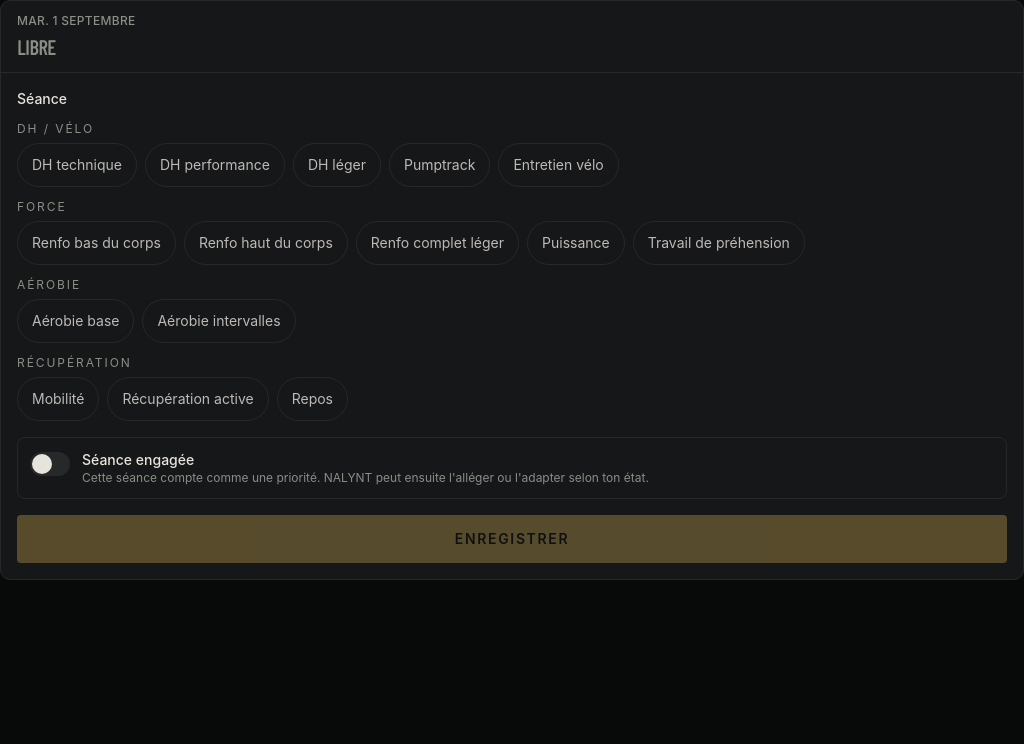
PlanningDayCard — planned duration (V0.3_006C2 / UX-10B-2B stepper) › duration copy: only lift-served DH kinds (DH_PERFORMANCE/DH_TECHNICAL/DH_LIGHT) claim remontées/pauses — PUMPTRACK keeps the generic copy
The image size is (1024, 744).
Click the button "DH performance" at (215, 165), box left=145, top=143, right=285, bottom=187
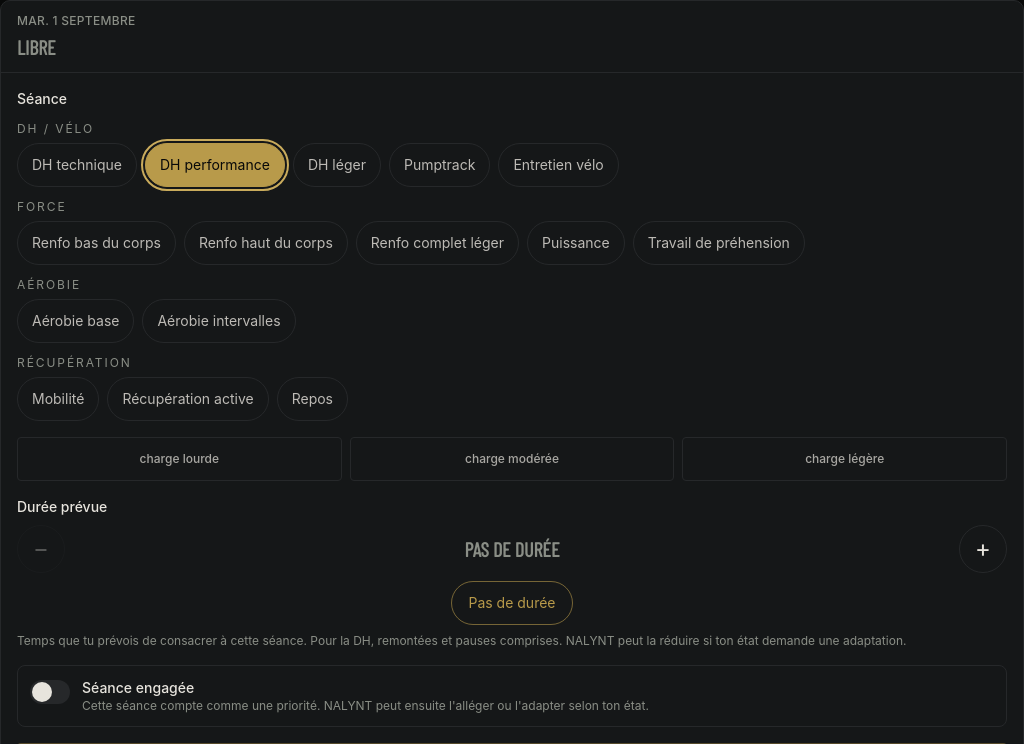
Expected: the text "Pour la DH, remontées et pauses comprises" is shown, left=17, top=633, right=906, bottom=648
Click the button "DH technique" at (77, 165), box left=17, top=143, right=137, bottom=187
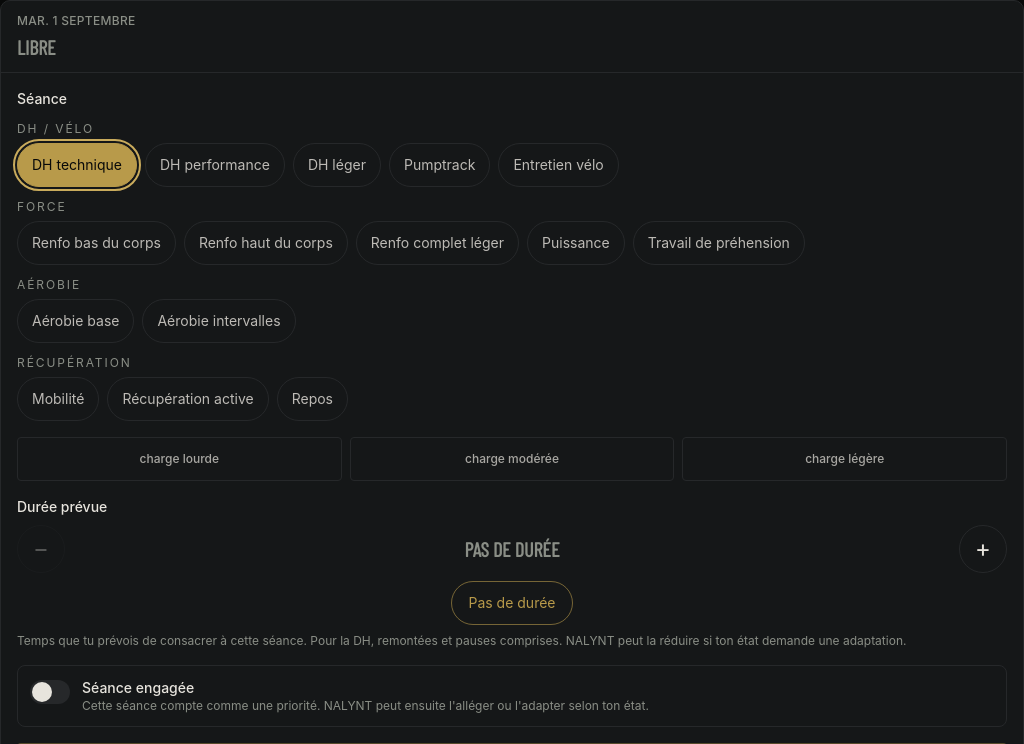
Expected: the text "Pour la DH, remontées et pauses comprises" is shown, left=17, top=633, right=906, bottom=648
Click the button "DH léger" at (337, 165), box left=293, top=143, right=381, bottom=187
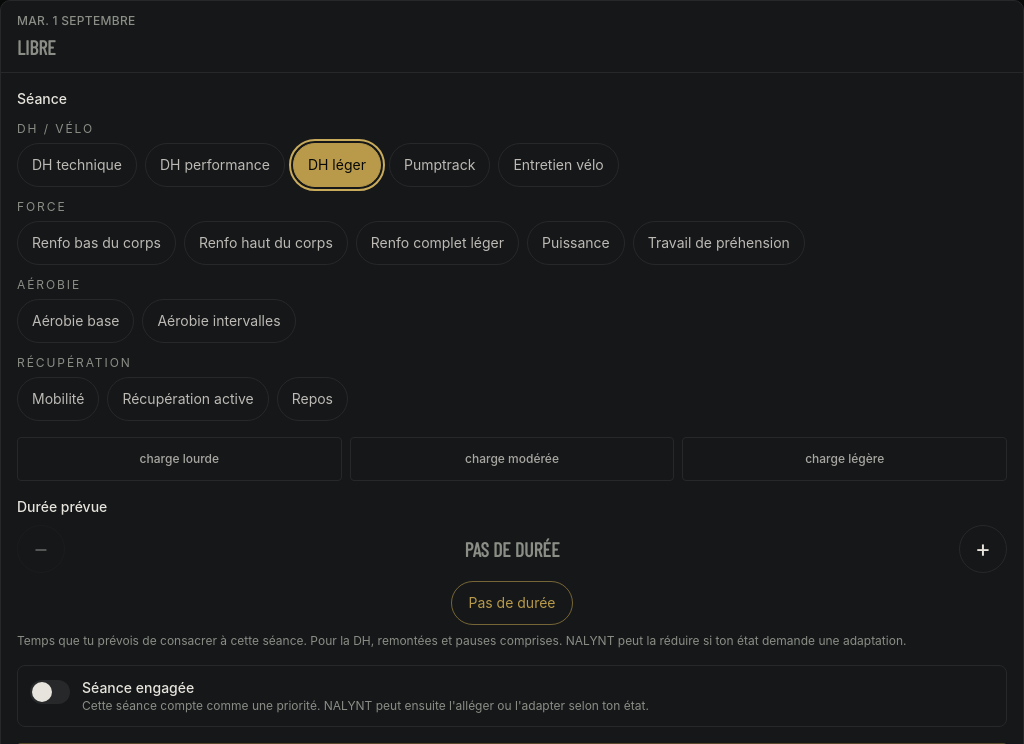
Expected: the text "Pour la DH, remontées et pauses comprises" is shown, left=17, top=633, right=906, bottom=648
Click the button "Pumptrack" at (440, 165), box left=389, top=143, right=490, bottom=187
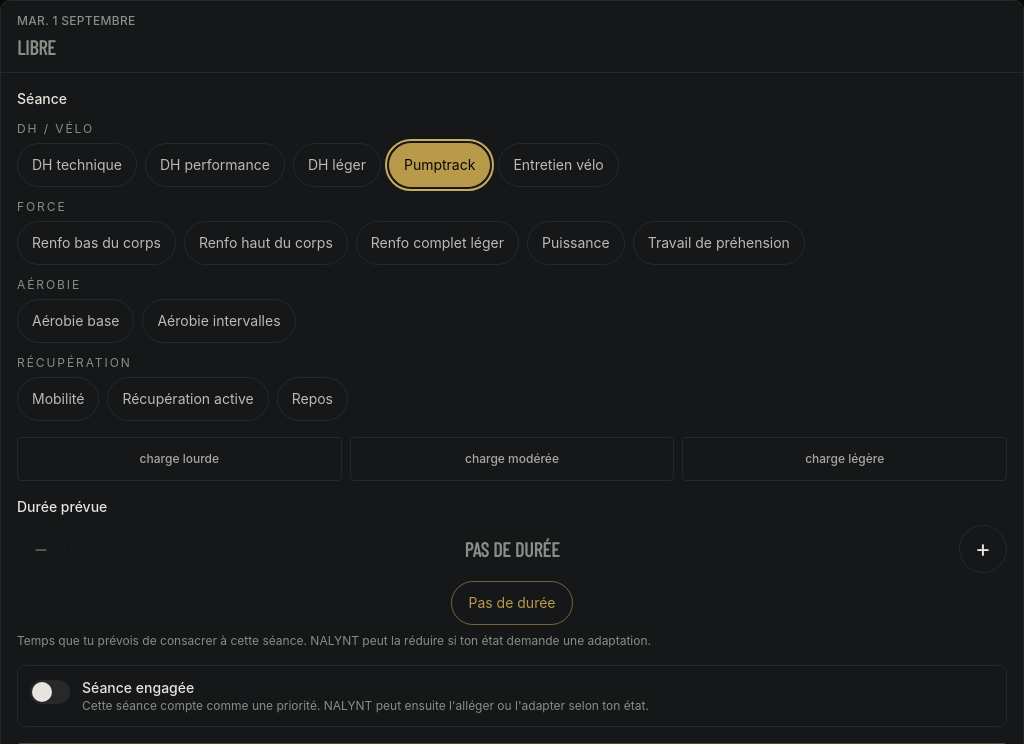
Expected: the element "Durée prévue" is shown, left=17, top=497, right=1007, bottom=649
Expected: the text "remontées" is gone
Expected: the text "Temps que tu prévois de consacrer à cette séance. NALYNT peut la réduire si ton état demande une adaptation." is shown, left=17, top=633, right=651, bottom=648
